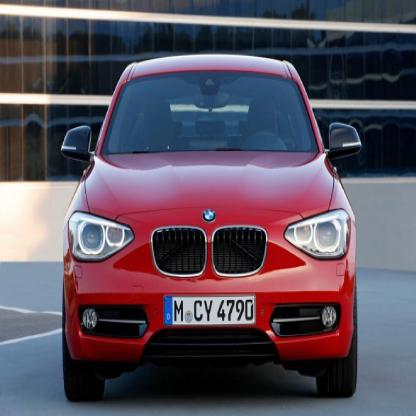Vehicle: (59, 50, 363, 400)
